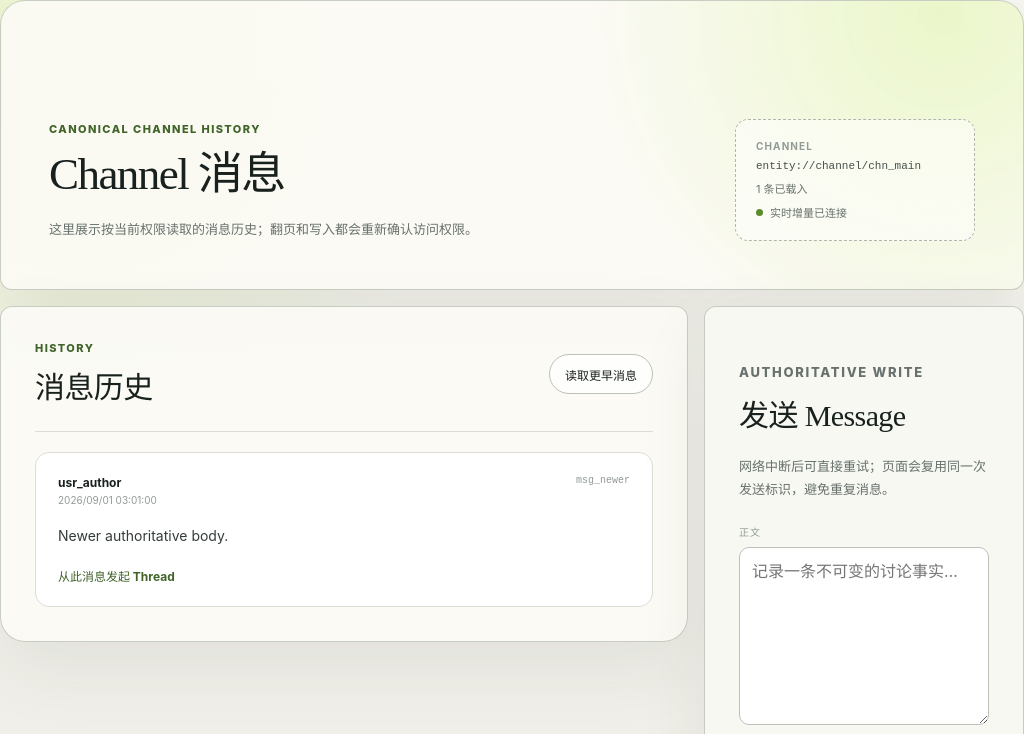
ChannelPage › renders canonical history and prepends an older page
Expected: the text "Newer authoritative body." is shown, [58,527,228,544]
Click the button "读取更早消息" at (601, 374), box [549,354,653,394]
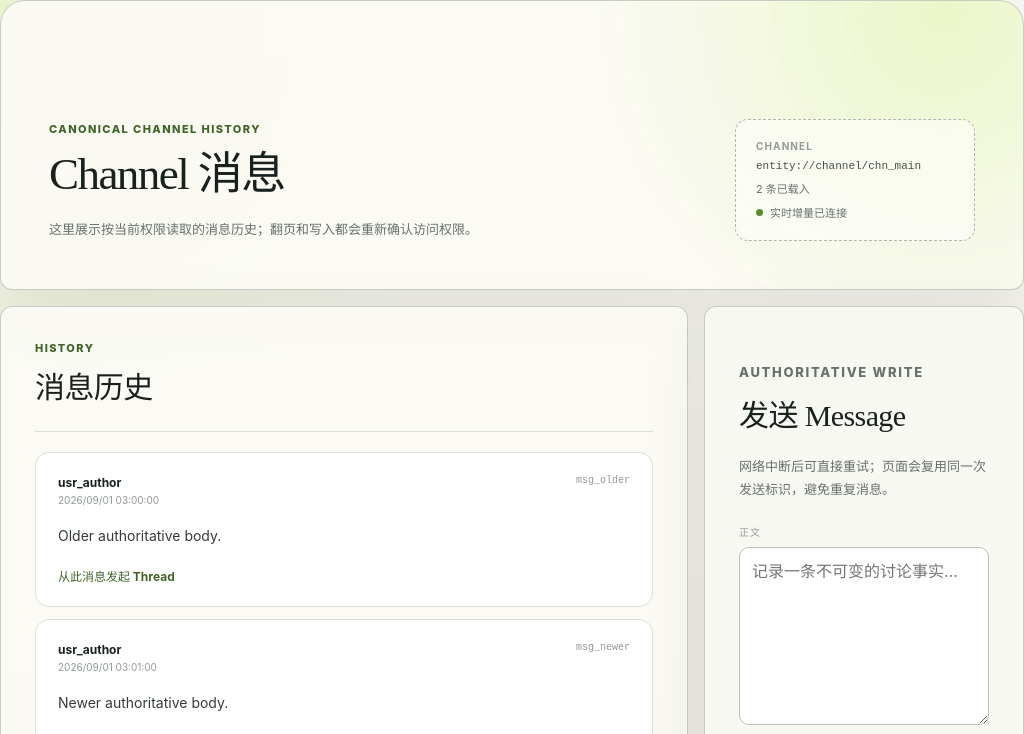
Now the text "Older authoritative body." is shown, box [58,527,221,544]
Now the elements "authoritative body." read "Older authoritative body.", "Newer authoritative body.", in this order, box [58,527,221,544]; [58,694,228,711]
